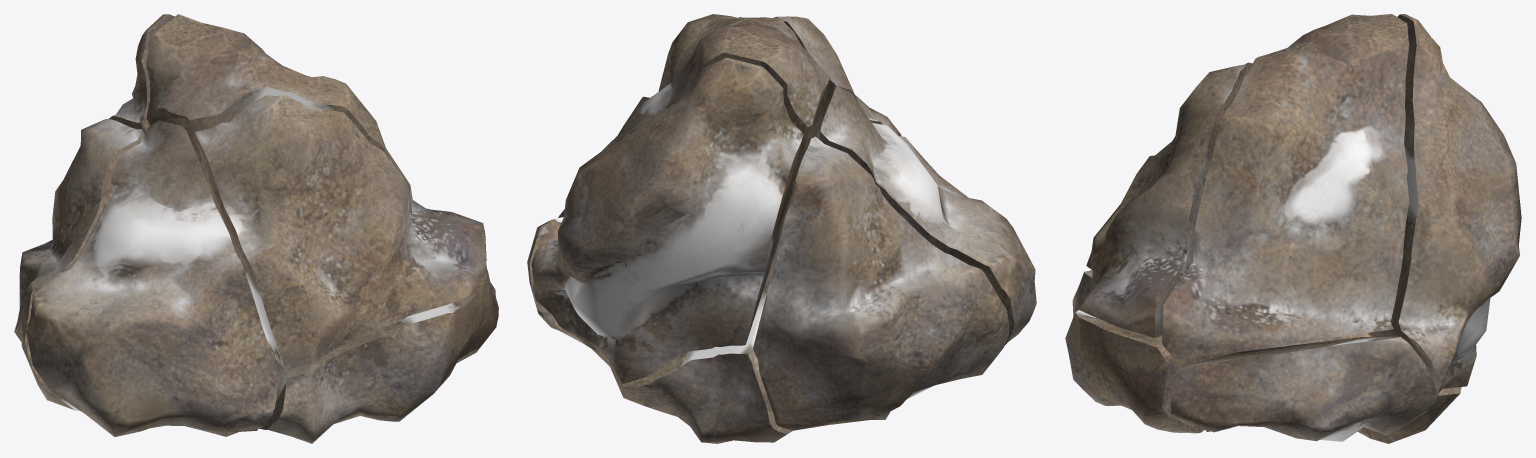
File: SM_MetalNode_1b_Pieces.fbx
3 renders of one model, left to right at view 1: azimuth 30°, elevation 25°; view 2: azimuth 150°, elevation 25°; view 3: azimuth 270°, elevation 25°, orthographic. The views are drawn at different scales.
Parts seen in each view (by area): view 1: SM_MetalNode_1b_Pieces_cell_2, SM_MetalNode_1b_Pieces_cell_5, SM_MetalNode_1b_Pieces_cell_6, SM_MetalNode_1b_Pieces_cell_7, SM_MetalNode_1b_Pieces_cell_1, SM_MetalNode_1b_Pieces_cell_4; view 2: SM_MetalNode_1b_Pieces_cell_4, SM_MetalNode_1b_Pieces_cell_1, SM_MetalNode_1b_Pieces_cell_2, SM_MetalNode_1b_Pieces_cell_7, SM_MetalNode_1b_Pieces_cell_3, SM_MetalNode_1b_Pieces_cell_5, SM_MetalNode_1b_Pieces_cell_8; view 3: SM_MetalNode_1b_Pieces_cell_7, SM_MetalNode_1b_Pieces_cell_4, SM_MetalNode_1b_Pieces_cell_8, SM_MetalNode_1b_Pieces_cell_5, SM_MetalNode_1b_Pieces_cell_6, SM_MetalNode_1b_Pieces_cell_3.
Boxes of the visible parts, x1,y1,x2,y2 form: SM_MetalNode_1b_Pieces_cell_2: [26, 120, 279, 436]; SM_MetalNode_1b_Pieces_cell_5: [195, 94, 486, 369]; SM_MetalNode_1b_Pieces_cell_6: [259, 268, 498, 443]; SM_MetalNode_1b_Pieces_cell_7: [146, 14, 486, 260]; SM_MetalNode_1b_Pieces_cell_1: [14, 119, 144, 410]; SM_MetalNode_1b_Pieces_cell_4: [109, 14, 174, 134]; SM_MetalNode_1b_Pieces_cell_4: [531, 57, 803, 383]; SM_MetalNode_1b_Pieces_cell_1: [753, 136, 1009, 430]; SM_MetalNode_1b_Pieces_cell_2: [819, 85, 1036, 344]; SM_MetalNode_1b_Pieces_cell_7: [560, 14, 830, 224]; SM_MetalNode_1b_Pieces_cell_3: [591, 237, 791, 443]; SM_MetalNode_1b_Pieces_cell_5: [652, 16, 901, 136]; SM_MetalNode_1b_Pieces_cell_8: [527, 209, 590, 348]; SM_MetalNode_1b_Pieces_cell_7: [1162, 14, 1409, 359]; SM_MetalNode_1b_Pieces_cell_4: [1368, 14, 1521, 394]; SM_MetalNode_1b_Pieces_cell_8: [1170, 336, 1438, 441]; SM_MetalNode_1b_Pieces_cell_5: [1078, 62, 1252, 338]; SM_MetalNode_1b_Pieces_cell_6: [1065, 269, 1230, 433]; SM_MetalNode_1b_Pieces_cell_3: [1230, 333, 1461, 443].
Bounding box in the file's own units: 1.28 × 1.08 × 1.11.
